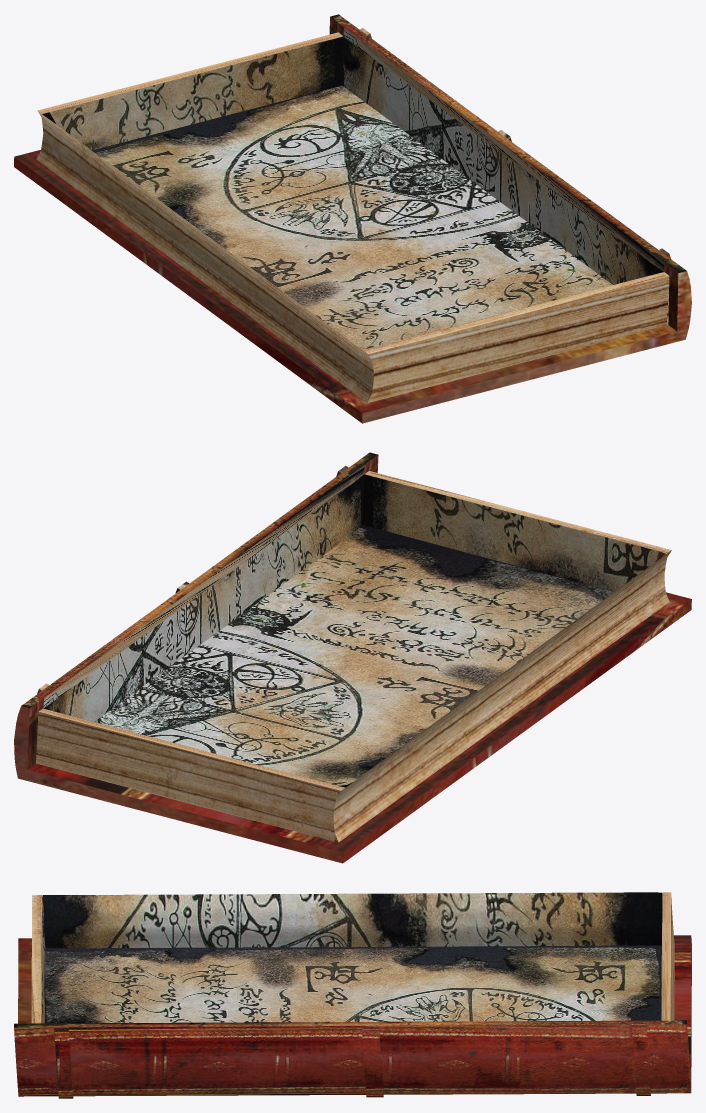
File: Book.fbx
3 renders of one model, top to bottom at view 1: azimuth 30°, elevation 25°; view 2: azimuth 150°, elevation 25°; view 3: azimuth 270°, elevation 25°, orthographic. The views are drawn at different scales.
Parts seen in each view (by area): view 1: polySurface2; view 2: polySurface2; view 3: polySurface2.
Boxes of the visible parts, x1,y1,x2,y2 form: polySurface2: (14,14,691,423); polySurface2: (14,452,691,863); polySurface2: (14,892,691,1098).
Size of the model in its own units: 1.38 by 0.3148 by 2.51.
4 materials, 4 textured.
